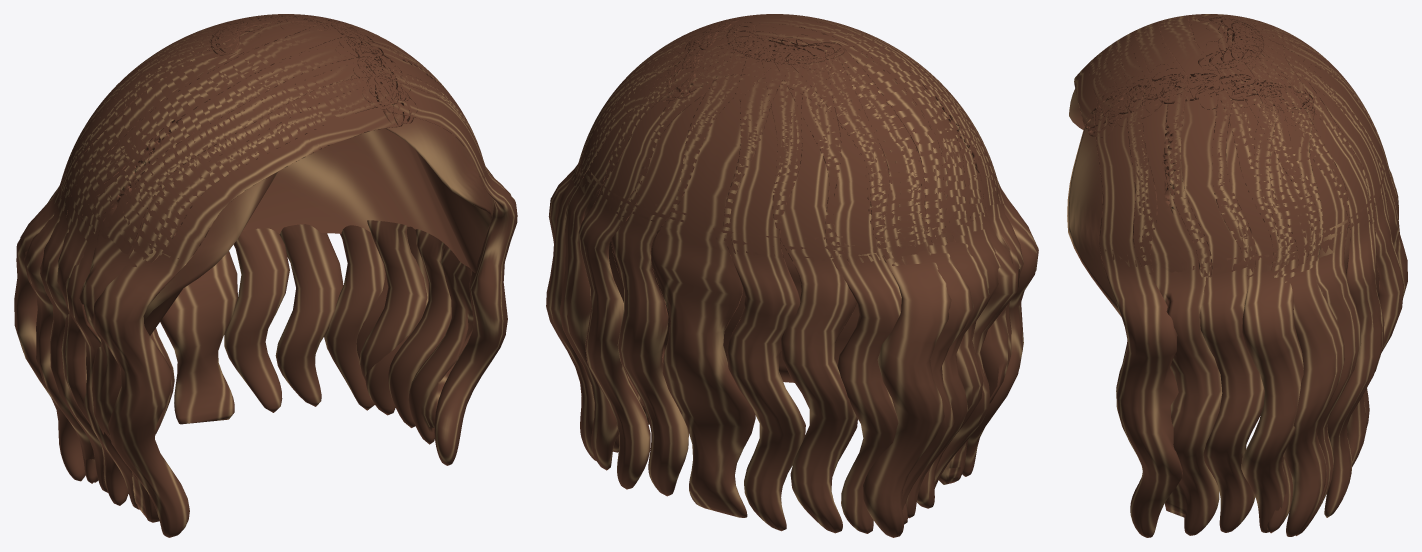
File: Highlights-f8f808efe737252-hair.glb
The picture shows the model from 3 angles, left to right: view 1: azimuth 30°, elevation 25°; view 2: azimuth 150°, elevation 25°; view 3: azimuth 270°, elevation 25°; orthographic projection. The views are drawn at different scales.
Parts seen in each view (by area): view 1: 226 hair / Hair / sculpted 0.002, 226 hair / Hair / sculpted 1.004, 226 hair / Hair / sculpted 2.002, 226 hair / Hair / sculpted 1.003; view 2: 226 hair / Hair / sculpted 2.002, 226 hair / Hair / sculpted 0.002, 226 hair / Hair / sculpted 1.004, 226 hair / Hair / sculpted 1.003; view 3: 226 hair / Hair / sculpted 1.004, 226 hair / Hair / sculpted 2.002, 226 hair / Hair / sculpted 0.002, 226 hair / Hair / sculpted 1.003.
Part boxes in pixels (left/top/right/bottom): 226 hair / Hair / sculpted 0.002: left=14, top=14, right=451, bottom=537; 226 hair / Hair / sculpted 1.004: left=40, top=14, right=517, bottom=522; 226 hair / Hair / sculpted 2.002: left=24, top=14, right=493, bottom=509; 226 hair / Hair / sculpted 1.003: left=61, top=117, right=494, bottom=335; 226 hair / Hair / sculpted 2.002: left=546, top=14, right=1019, bottom=533; 226 hair / Hair / sculpted 0.002: left=578, top=14, right=1038, bottom=537; 226 hair / Hair / sculpted 1.004: left=548, top=14, right=1023, bottom=533; 226 hair / Hair / sculpted 1.003: left=576, top=109, right=999, bottom=382; 226 hair / Hair / sculpted 1.004: left=1087, top=14, right=1403, bottom=537; 226 hair / Hair / sculpted 2.002: left=1104, top=14, right=1407, bottom=536; 226 hair / Hair / sculpted 0.002: left=1074, top=14, right=1393, bottom=532; 226 hair / Hair / sculpted 1.003: left=1067, top=88, right=1388, bottom=316.
Bounding box in the file's own units: 1.09 × 1.08 × 0.7673.
4 materials, 4 textured.
